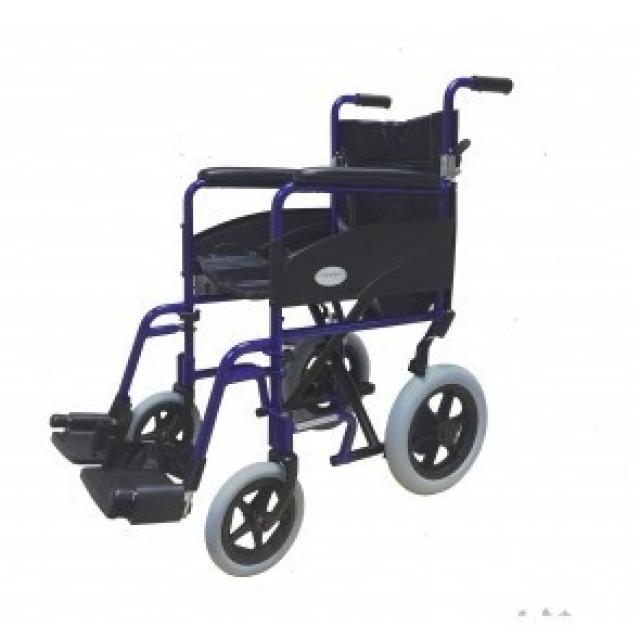wheelchair: (48, 45, 534, 590)
